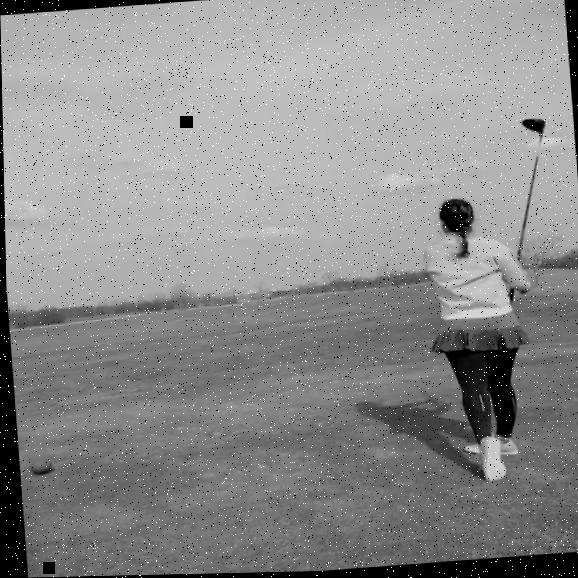ClubHead: (520, 120, 547, 137)
